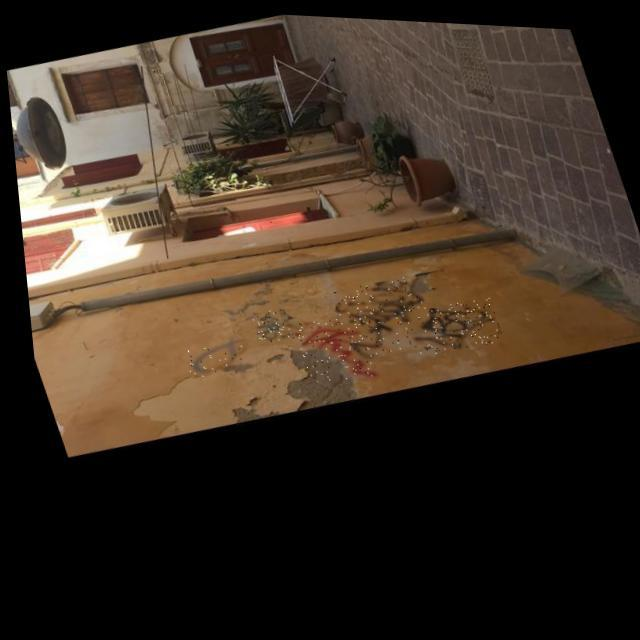-: (322, 267, 433, 361), (284, 305, 370, 387), (397, 288, 499, 357), (174, 333, 250, 379), (244, 302, 289, 344)
